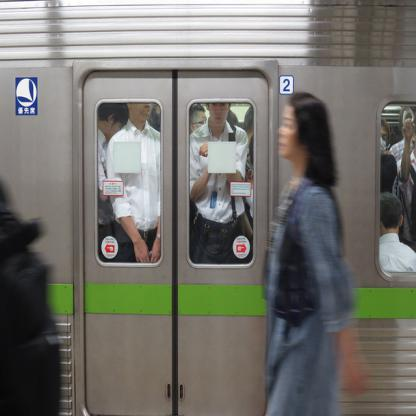handbag: (189, 196, 238, 265)
